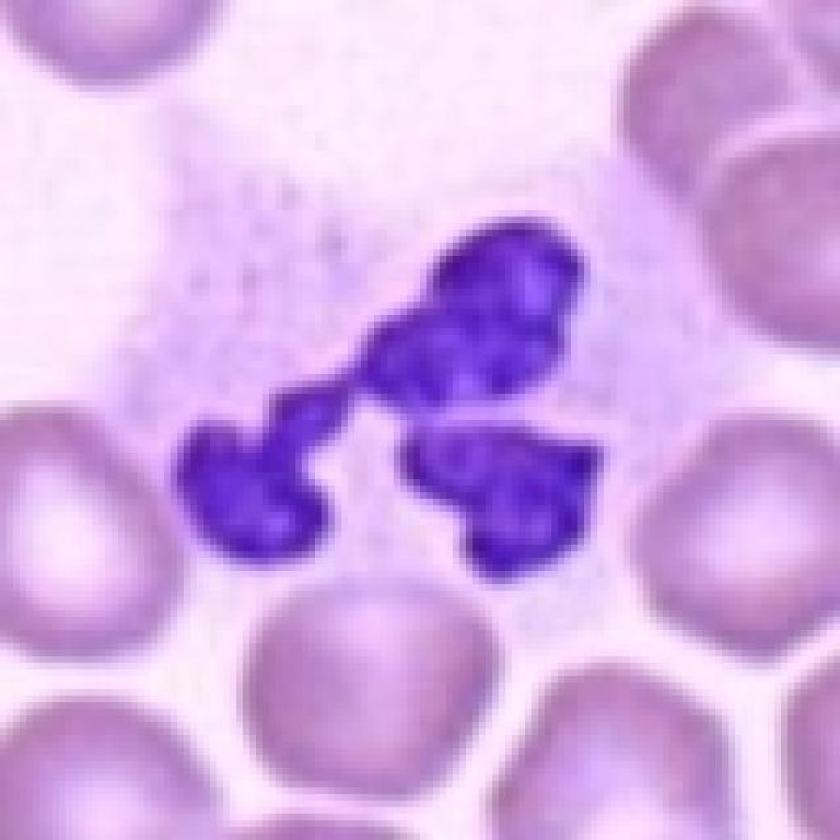neutrophil: (90, 102, 723, 645)
